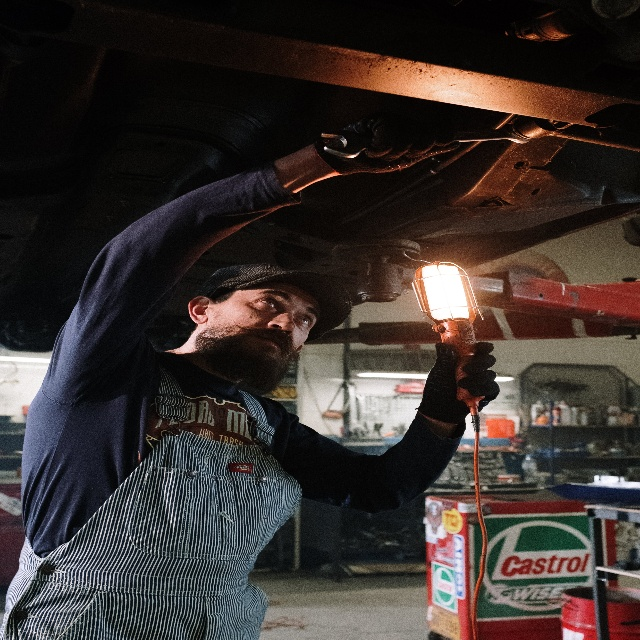Guantes: (417, 339, 501, 427)
